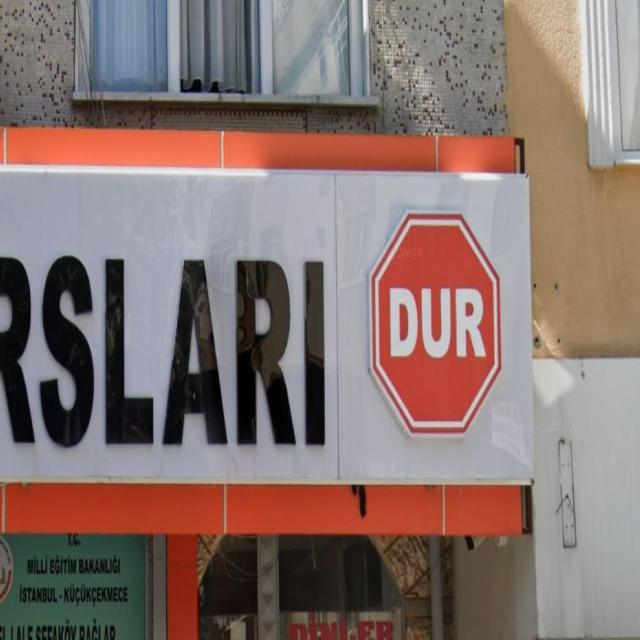dur: (370, 210, 503, 439)
